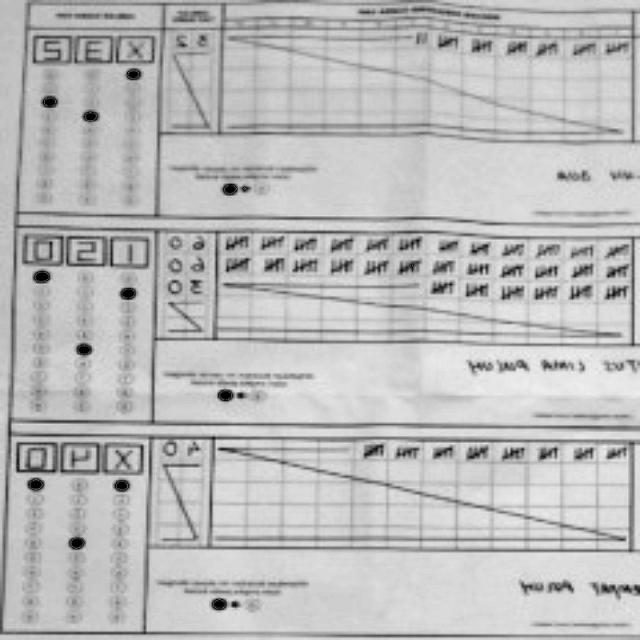Suara: (25, 228, 153, 266), (19, 438, 149, 473), (32, 30, 162, 63)
